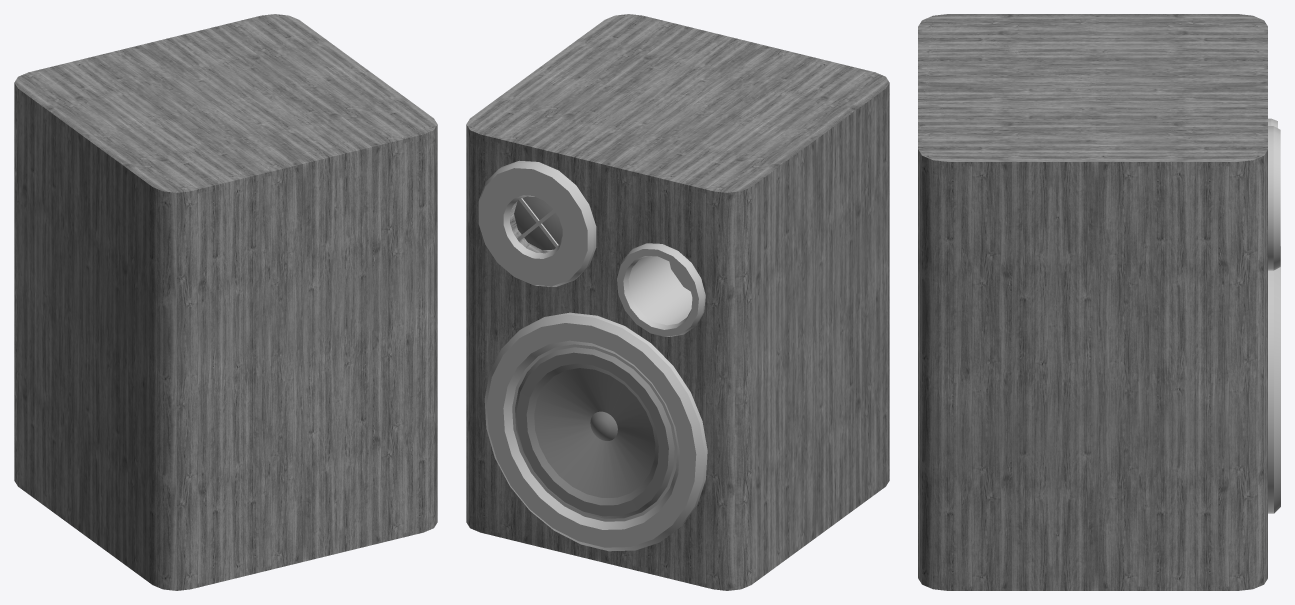
Rendered from Speaker_Small.FBX.
3 renders of one model, left to right at view 1: azimuth 30°, elevation 25°; view 2: azimuth 150°, elevation 25°; view 3: azimuth 270°, elevation 25°, orthographic. The views are drawn at different scales.
Parts seen in each view (by area): view 1: Speaker_Small; view 2: Speaker_Small; view 3: Speaker_Small.
Part boxes in pixels (bbox=[...]): Speaker_Small: bbox=[14, 14, 437, 590]; Speaker_Small: bbox=[466, 14, 889, 590]; Speaker_Small: bbox=[918, 14, 1280, 590].
Size of the model in its own units: 0.5323 by 0.7198 by 0.5518.
